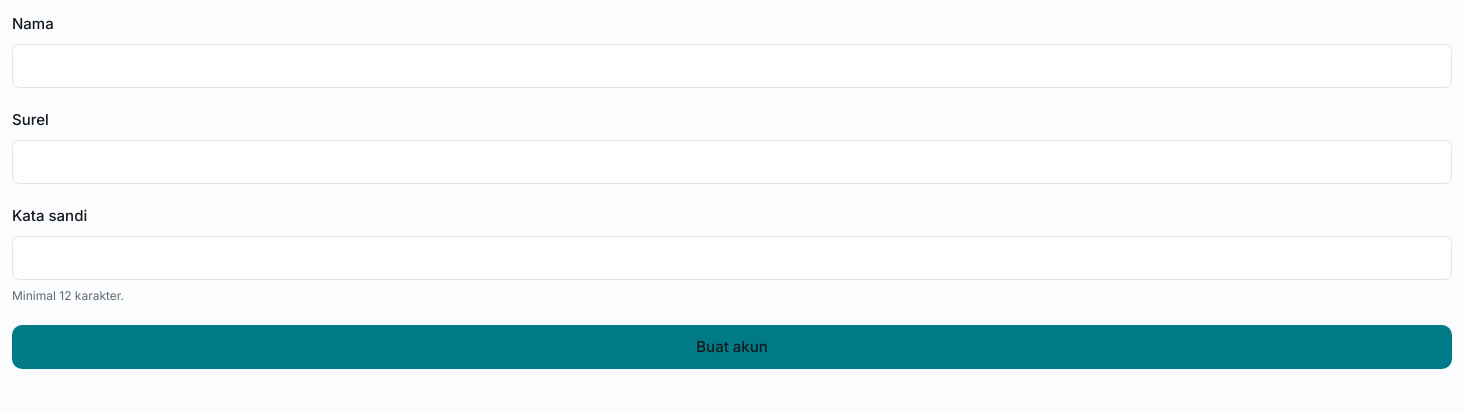
Test case: validasi masukan › menolak kata sandi yang lebih pendek dari batas server
This screenshot has width=1464, height=411.
Type "Budi" into the field labelled "Nama". click: (732, 66)
box: x1=12 y1=44 x2=1452 y2=88
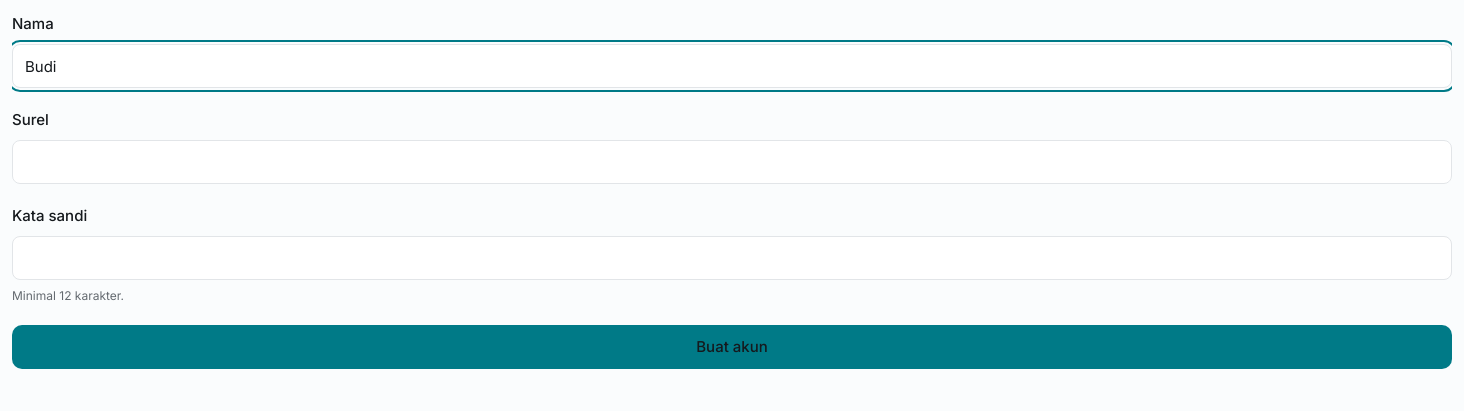
Type "budi@example.com" into the field labelled "Surel". click: (732, 162)
box: x1=12 y1=140 x2=1452 y2=184
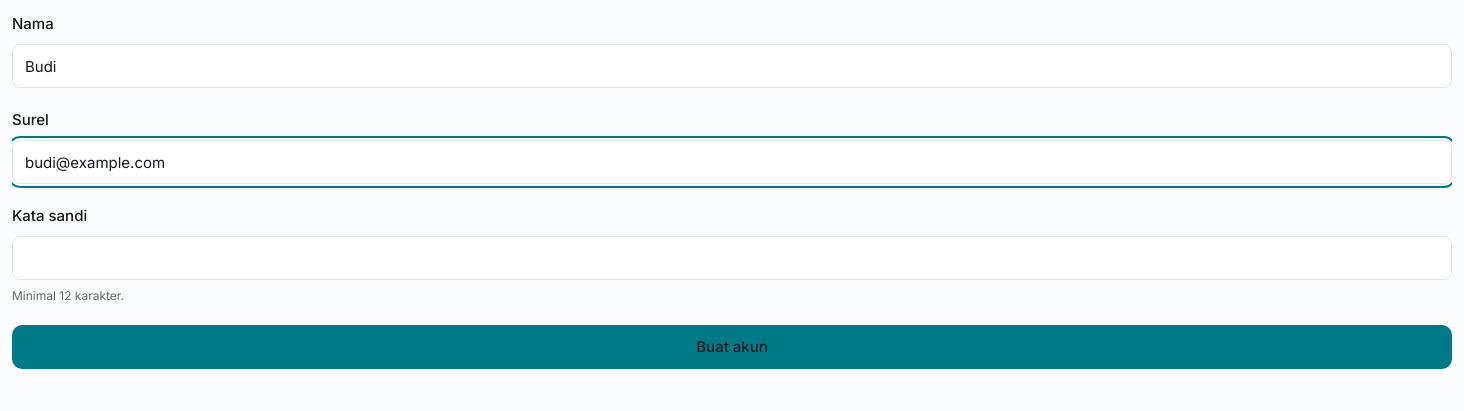
Type "pendek" into the password field labelled "Kata sandi". click: (732, 258)
box: x1=12 y1=236 x2=1452 y2=280
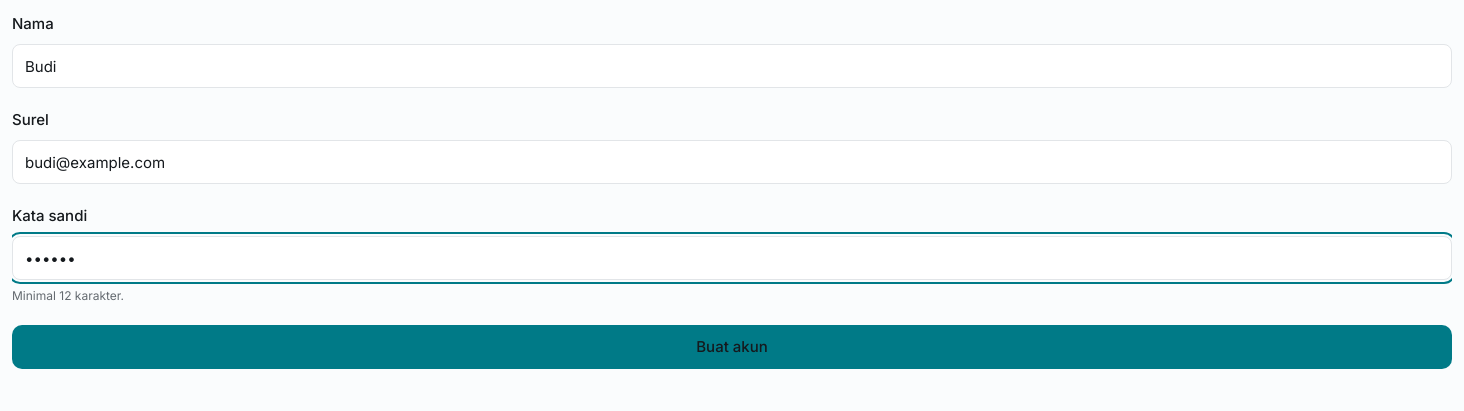
Click the button "Buat akun". click: (732, 347)
box: x1=12 y1=325 x2=1452 y2=369
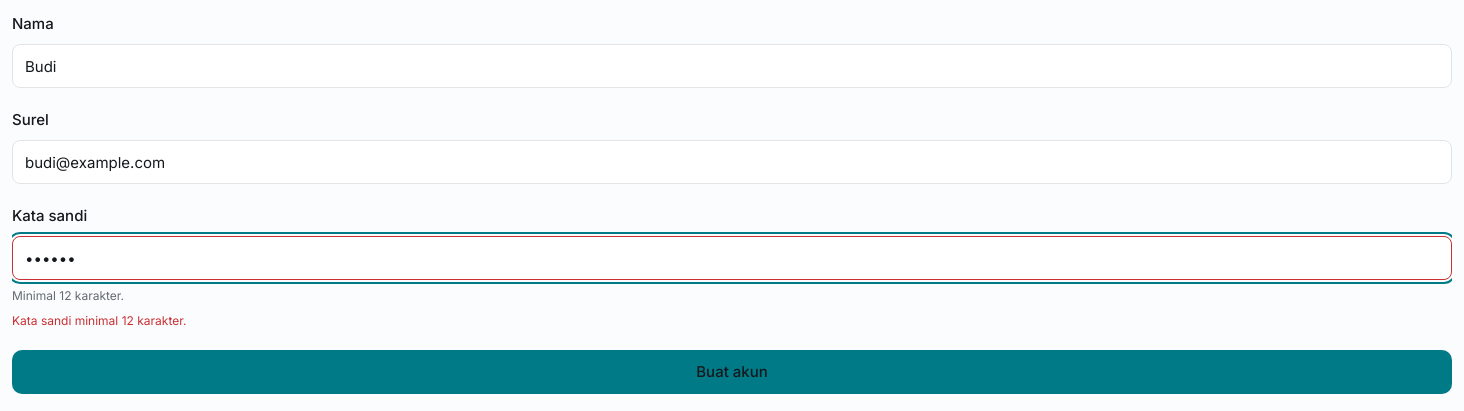
Expected: the text "Kata sandi minimal 12 karakter." is shown, x1=12 y1=313 x2=186 y2=328
